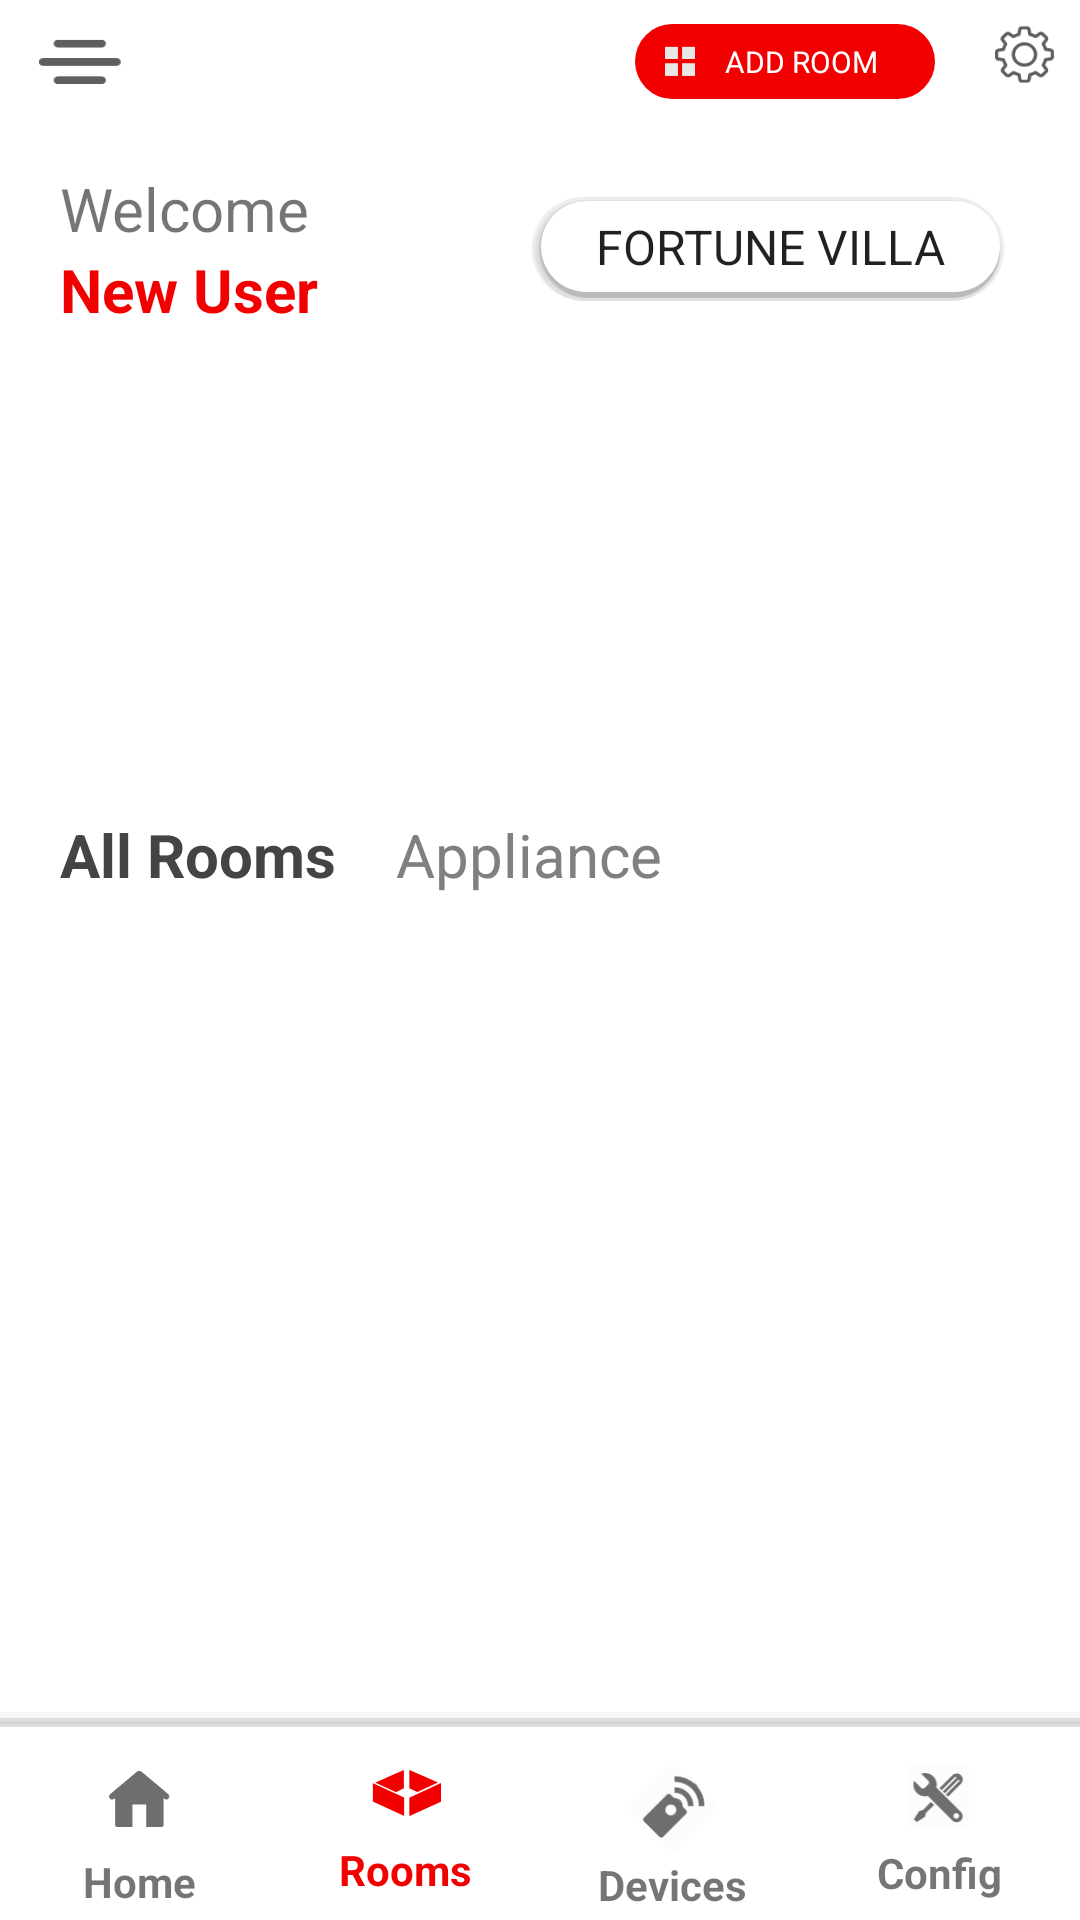

Icons on this 1080 × 1920 Android screen, each with the point to tap as (x,y):
menu: (80,62)
settings: (1024,54)
